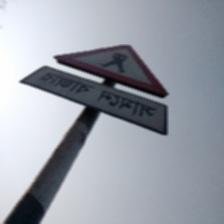Market-in-front: (22, 43, 169, 135)
